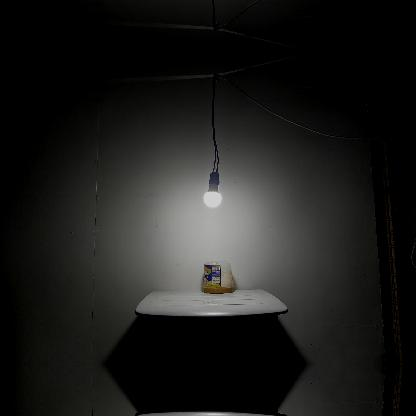Lady-s-Choice: (202, 258, 234, 294)
